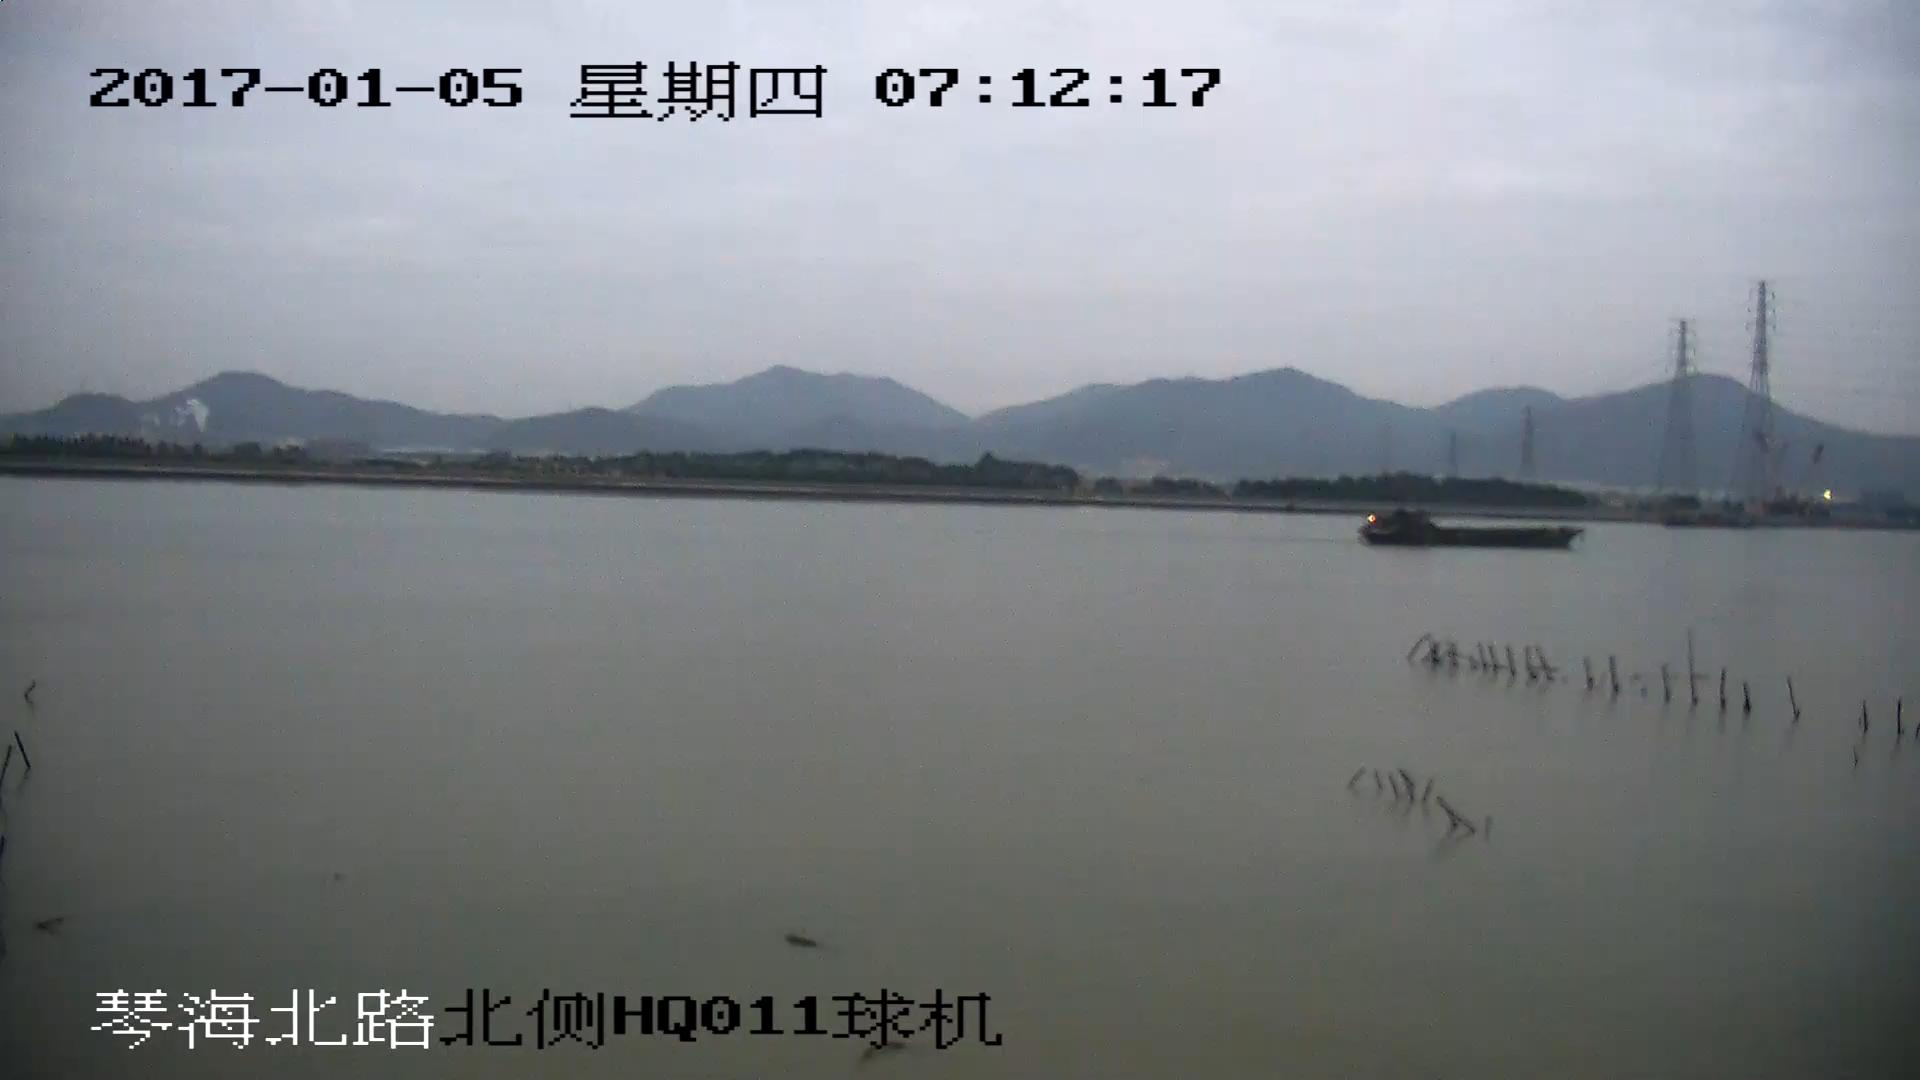bulk cargo carrier: (1360, 510, 1582, 552)
